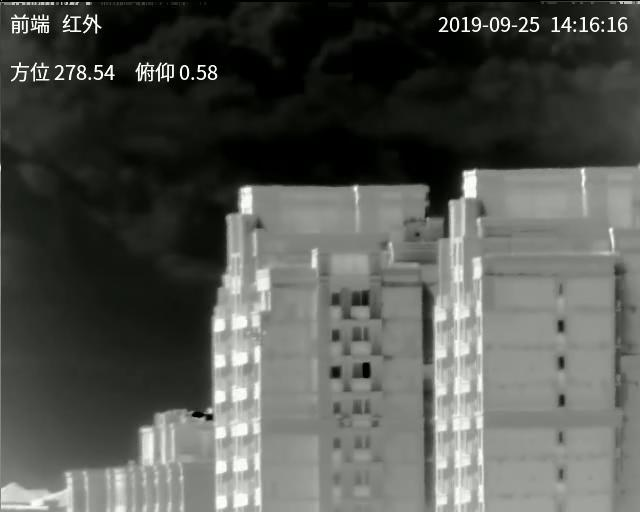uav: (242, 322, 268, 344)
